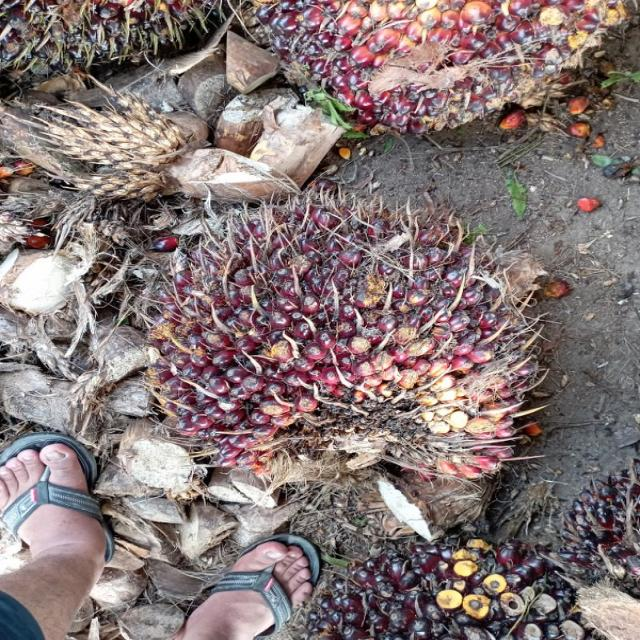fraksi 1: (134, 194, 524, 482), (250, 0, 631, 123)
